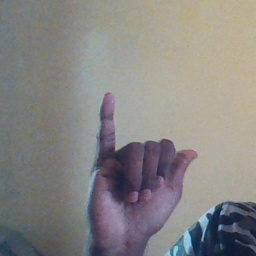J: (88, 88, 199, 244)
